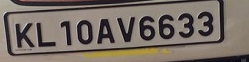0: (75, 19, 93, 45)
1: (59, 19, 75, 47)
3: (176, 12, 195, 40), (197, 10, 214, 38)
6: (138, 14, 157, 42), (158, 13, 176, 41)
A: (96, 18, 116, 44)
K: (14, 21, 36, 49)
L: (34, 21, 58, 47)
V: (114, 15, 136, 43)
